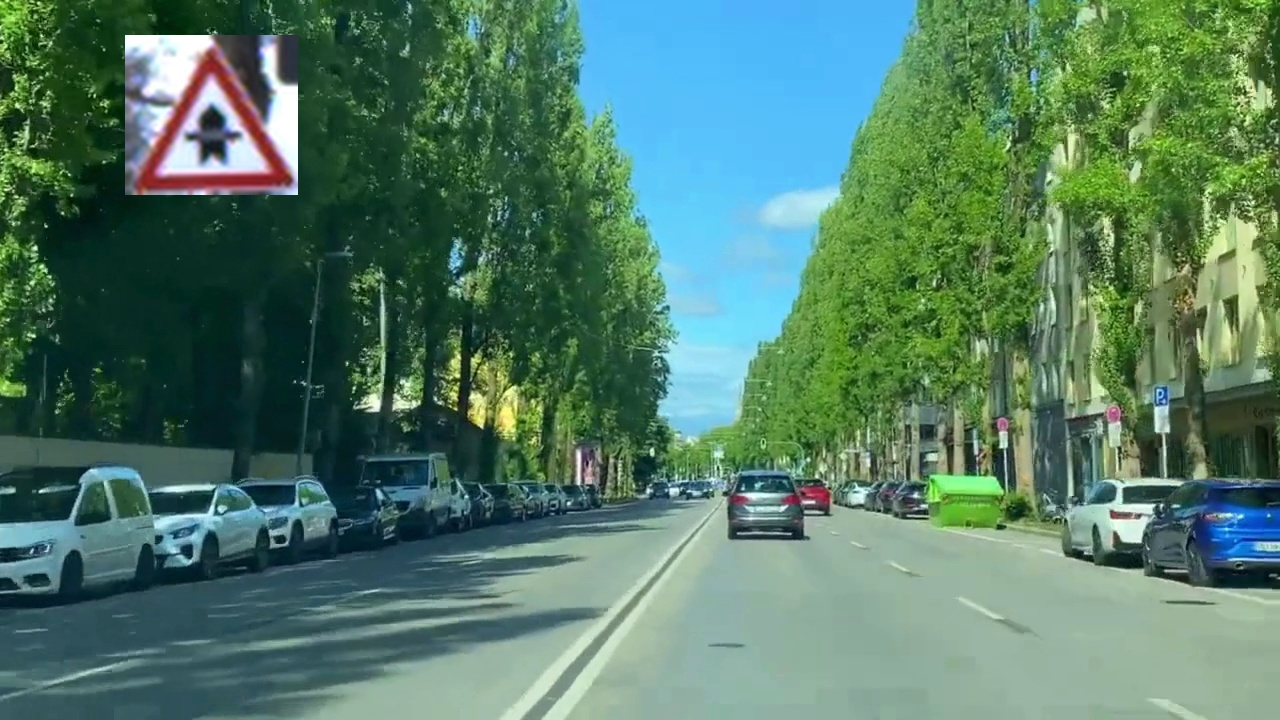Right-of-way: (125, 35, 298, 195)
